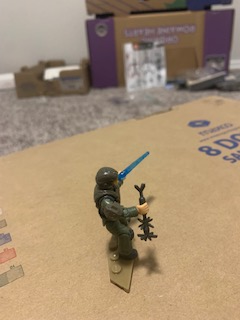soldier: (91, 149, 168, 261)
